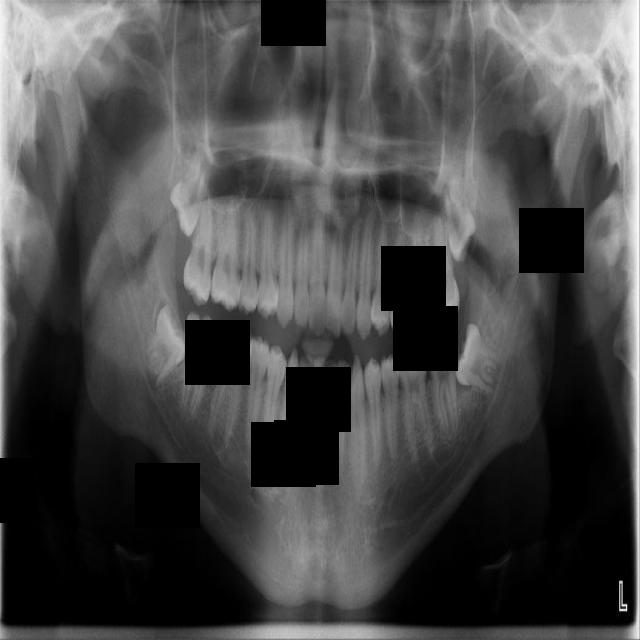3M ESPE Implant: (162, 140, 216, 237)
73: (578, 572, 595, 584)
BioHorizons Implant: (432, 216, 462, 324)
BioLife Implant: (438, 172, 482, 264)
Biomet 3i Implant: (451, 321, 510, 393)
Blue Sky Bio Implant: (424, 331, 463, 437)
Caries: (181, 195, 218, 308)
Implant: (179, 312, 221, 422)
Keystone Dental Implant: (137, 301, 199, 392)
